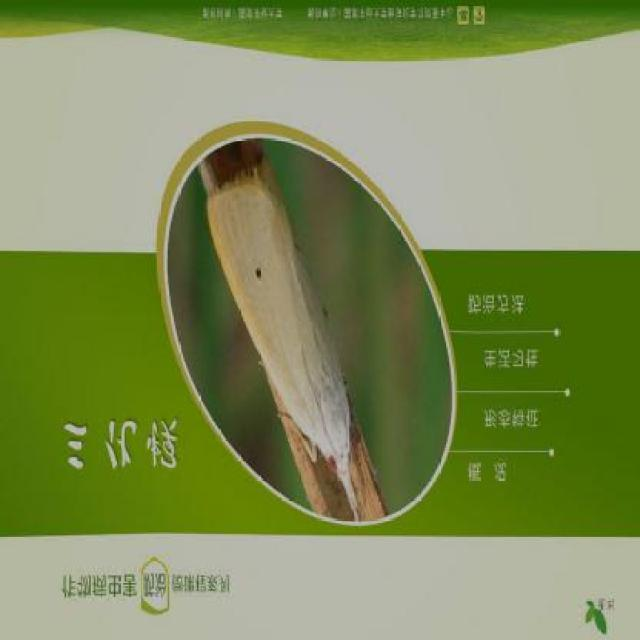stem-borer: (201, 158, 360, 521)
